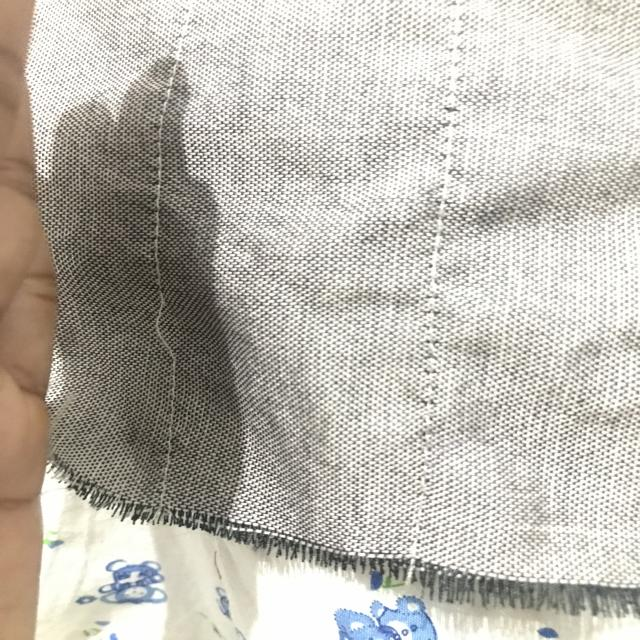good: (153, 389, 185, 470), (146, 145, 172, 240)
skip: (138, 286, 195, 369)
